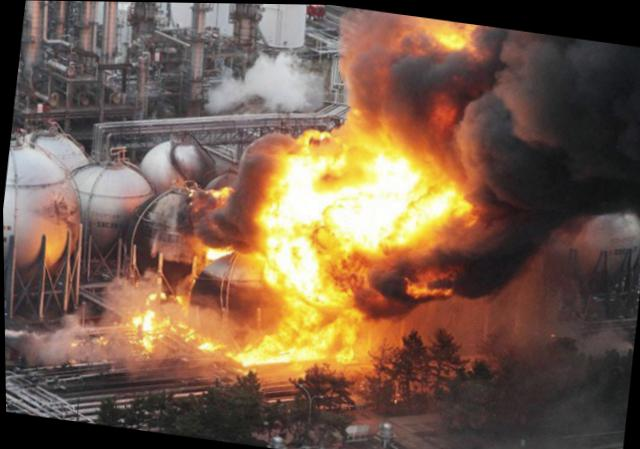fire: (264, 124, 469, 263), (260, 244, 374, 367), (178, 324, 220, 360), (132, 303, 160, 354), (430, 21, 467, 57), (235, 343, 267, 369)
smoke: (459, 23, 639, 212), (333, 54, 437, 135), (466, 201, 529, 289), (37, 319, 94, 370), (337, 11, 401, 54), (103, 286, 139, 315)
